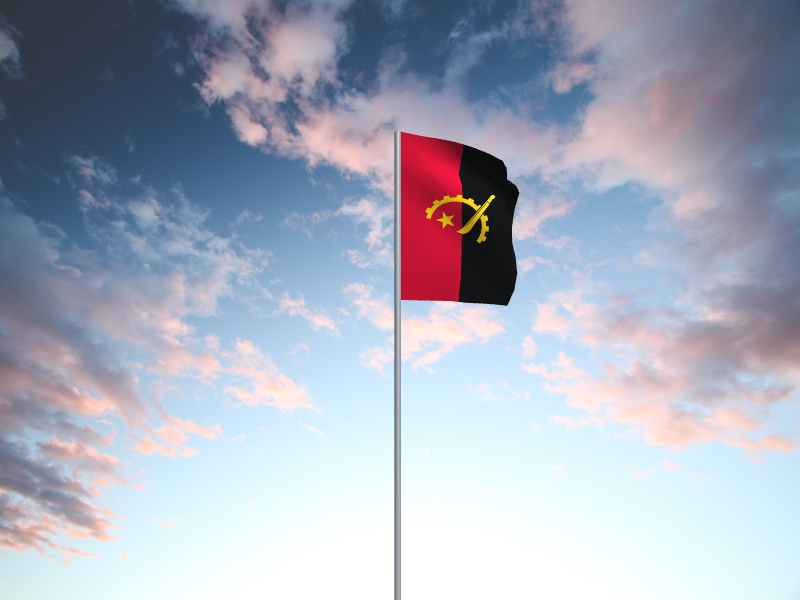ao: (402, 132, 521, 307)
